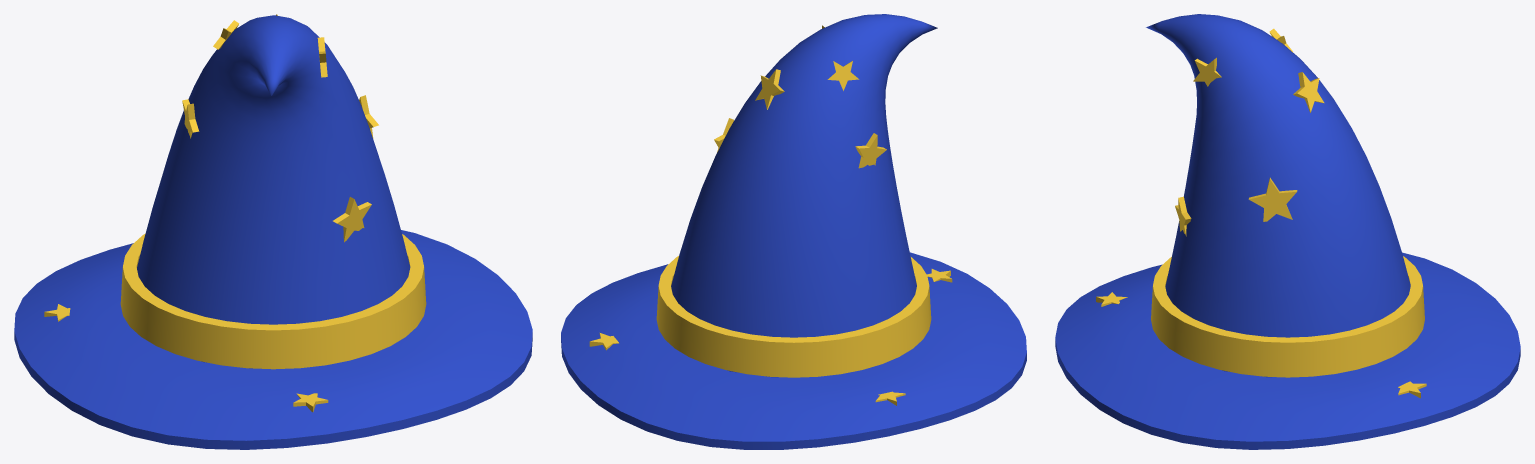
Rendered from acc_wizard.glb.
3 views of the same model, side by side, from view 1: azimuth 30°, elevation 25°; view 2: azimuth 150°, elevation 25°; view 3: azimuth 270°, elevation 25° (orthographic). The views are drawn at different scales.
Parts seen in each view (by area): view 1: WizardHat; view 2: WizardHat; view 3: WizardHat.
Part boxes in pixels (x1,y1,x2,y2): WizardHat: (14, 14, 532, 449); WizardHat: (561, 14, 1026, 449); WizardHat: (1055, 14, 1520, 449).
Size of the model in its own units: 0.72 by 0.5451 by 0.72.
